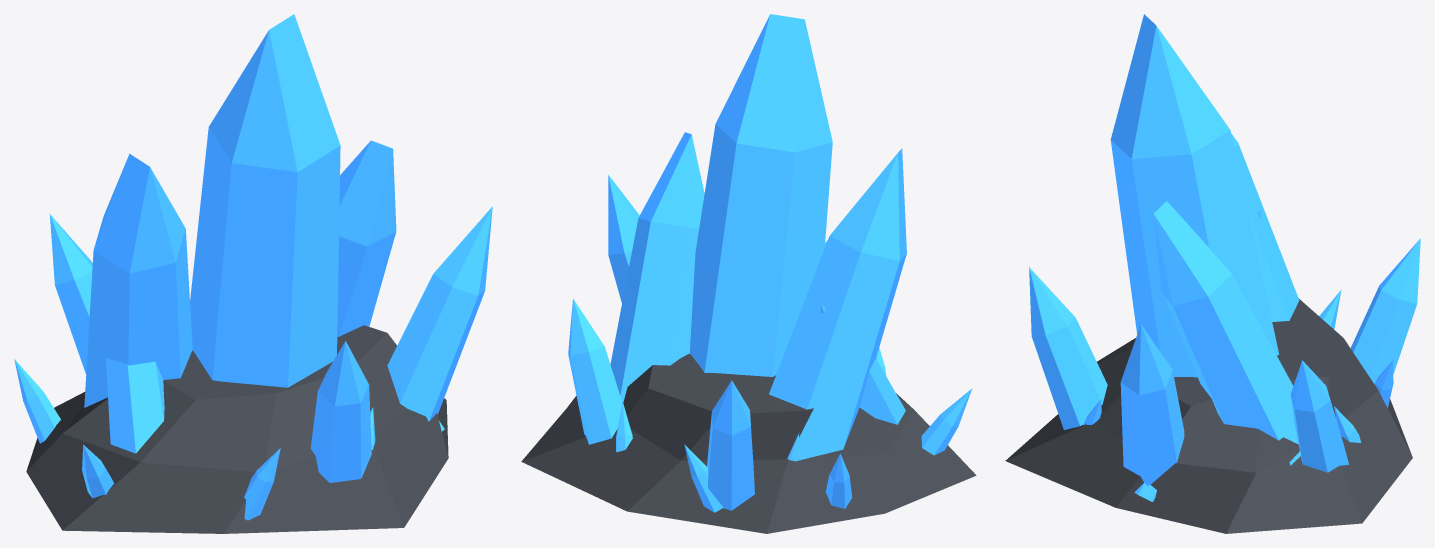
File: PROP_03_LargeCrystalCluster.fbx
The picture shows the model from 3 angles, left to right: view 1: azimuth 30°, elevation 25°; view 2: azimuth 150°, elevation 25°; view 3: azimuth 270°, elevation 25°; orthographic projection. The views are drawn at different scales.
Parts seen in each view (by area): view 1: PROP_03_LargeCrystalCluster; view 2: PROP_03_LargeCrystalCluster; view 3: PROP_03_LargeCrystalCluster.
Part boxes in pixels (x1,y1,x2,y2): PROP_03_LargeCrystalCluster: (14, 14, 492, 533); PROP_03_LargeCrystalCluster: (521, 14, 976, 533); PROP_03_LargeCrystalCluster: (1005, 14, 1420, 533).
Size of the model in its own units: 247 by 258 by 229.
